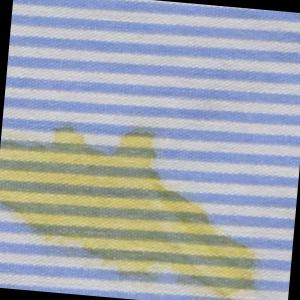Oil Stain: (1, 116, 274, 300)
